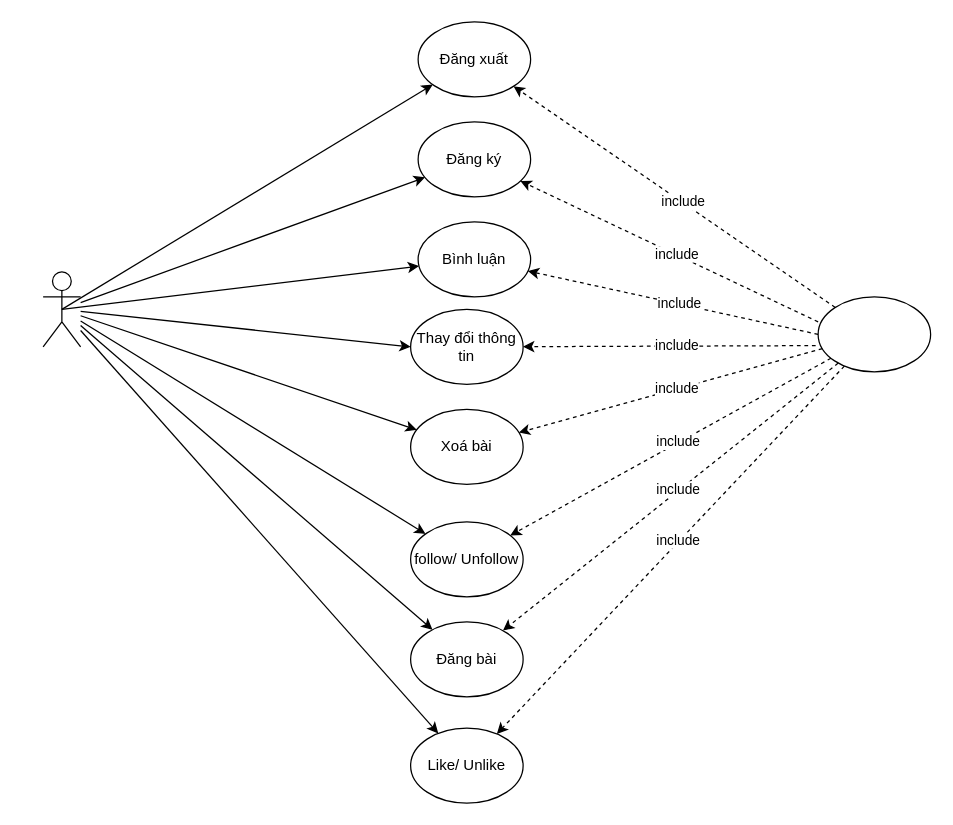
This 953x825 diagram has some shape labels left out. The centre of each missing label's shape, as x and y in pixels:
"Người dùng" belongs at (61,309).
"Đăng nhập" belongs at (874,334).
